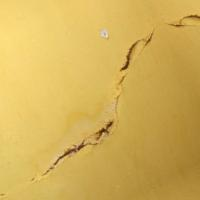crack: (35, 13, 199, 179)
